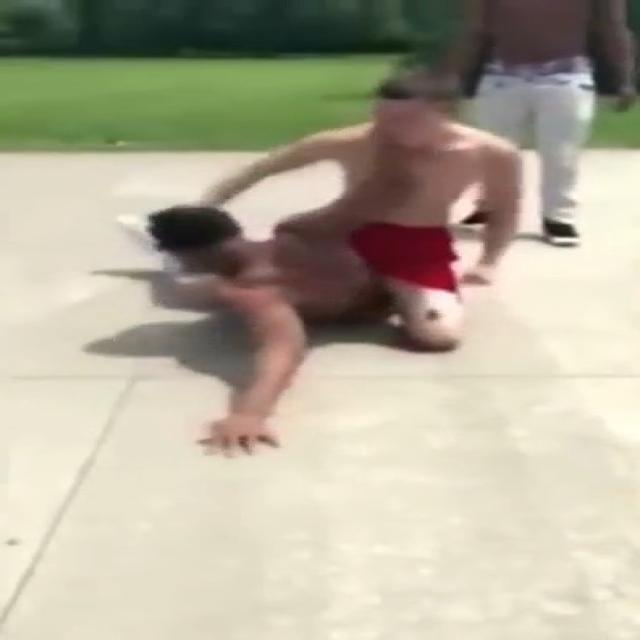non-violence: (449, 0, 636, 242)
violence: (116, 70, 528, 458)
